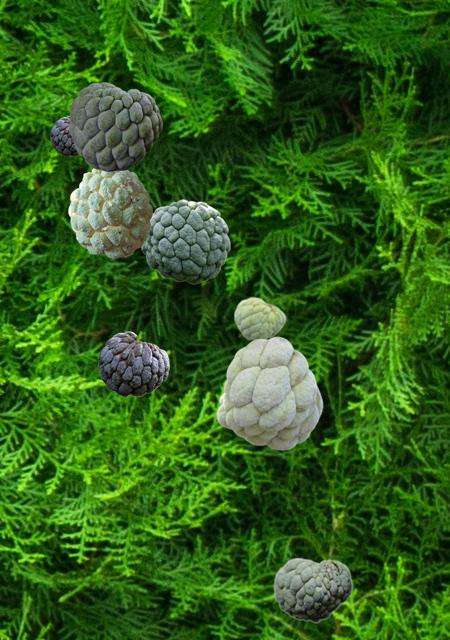atis: (216, 336, 322, 449), (69, 82, 161, 170), (141, 199, 229, 283), (68, 169, 151, 257), (273, 557, 352, 622), (98, 331, 168, 395), (233, 296, 285, 340), (50, 116, 78, 155)
